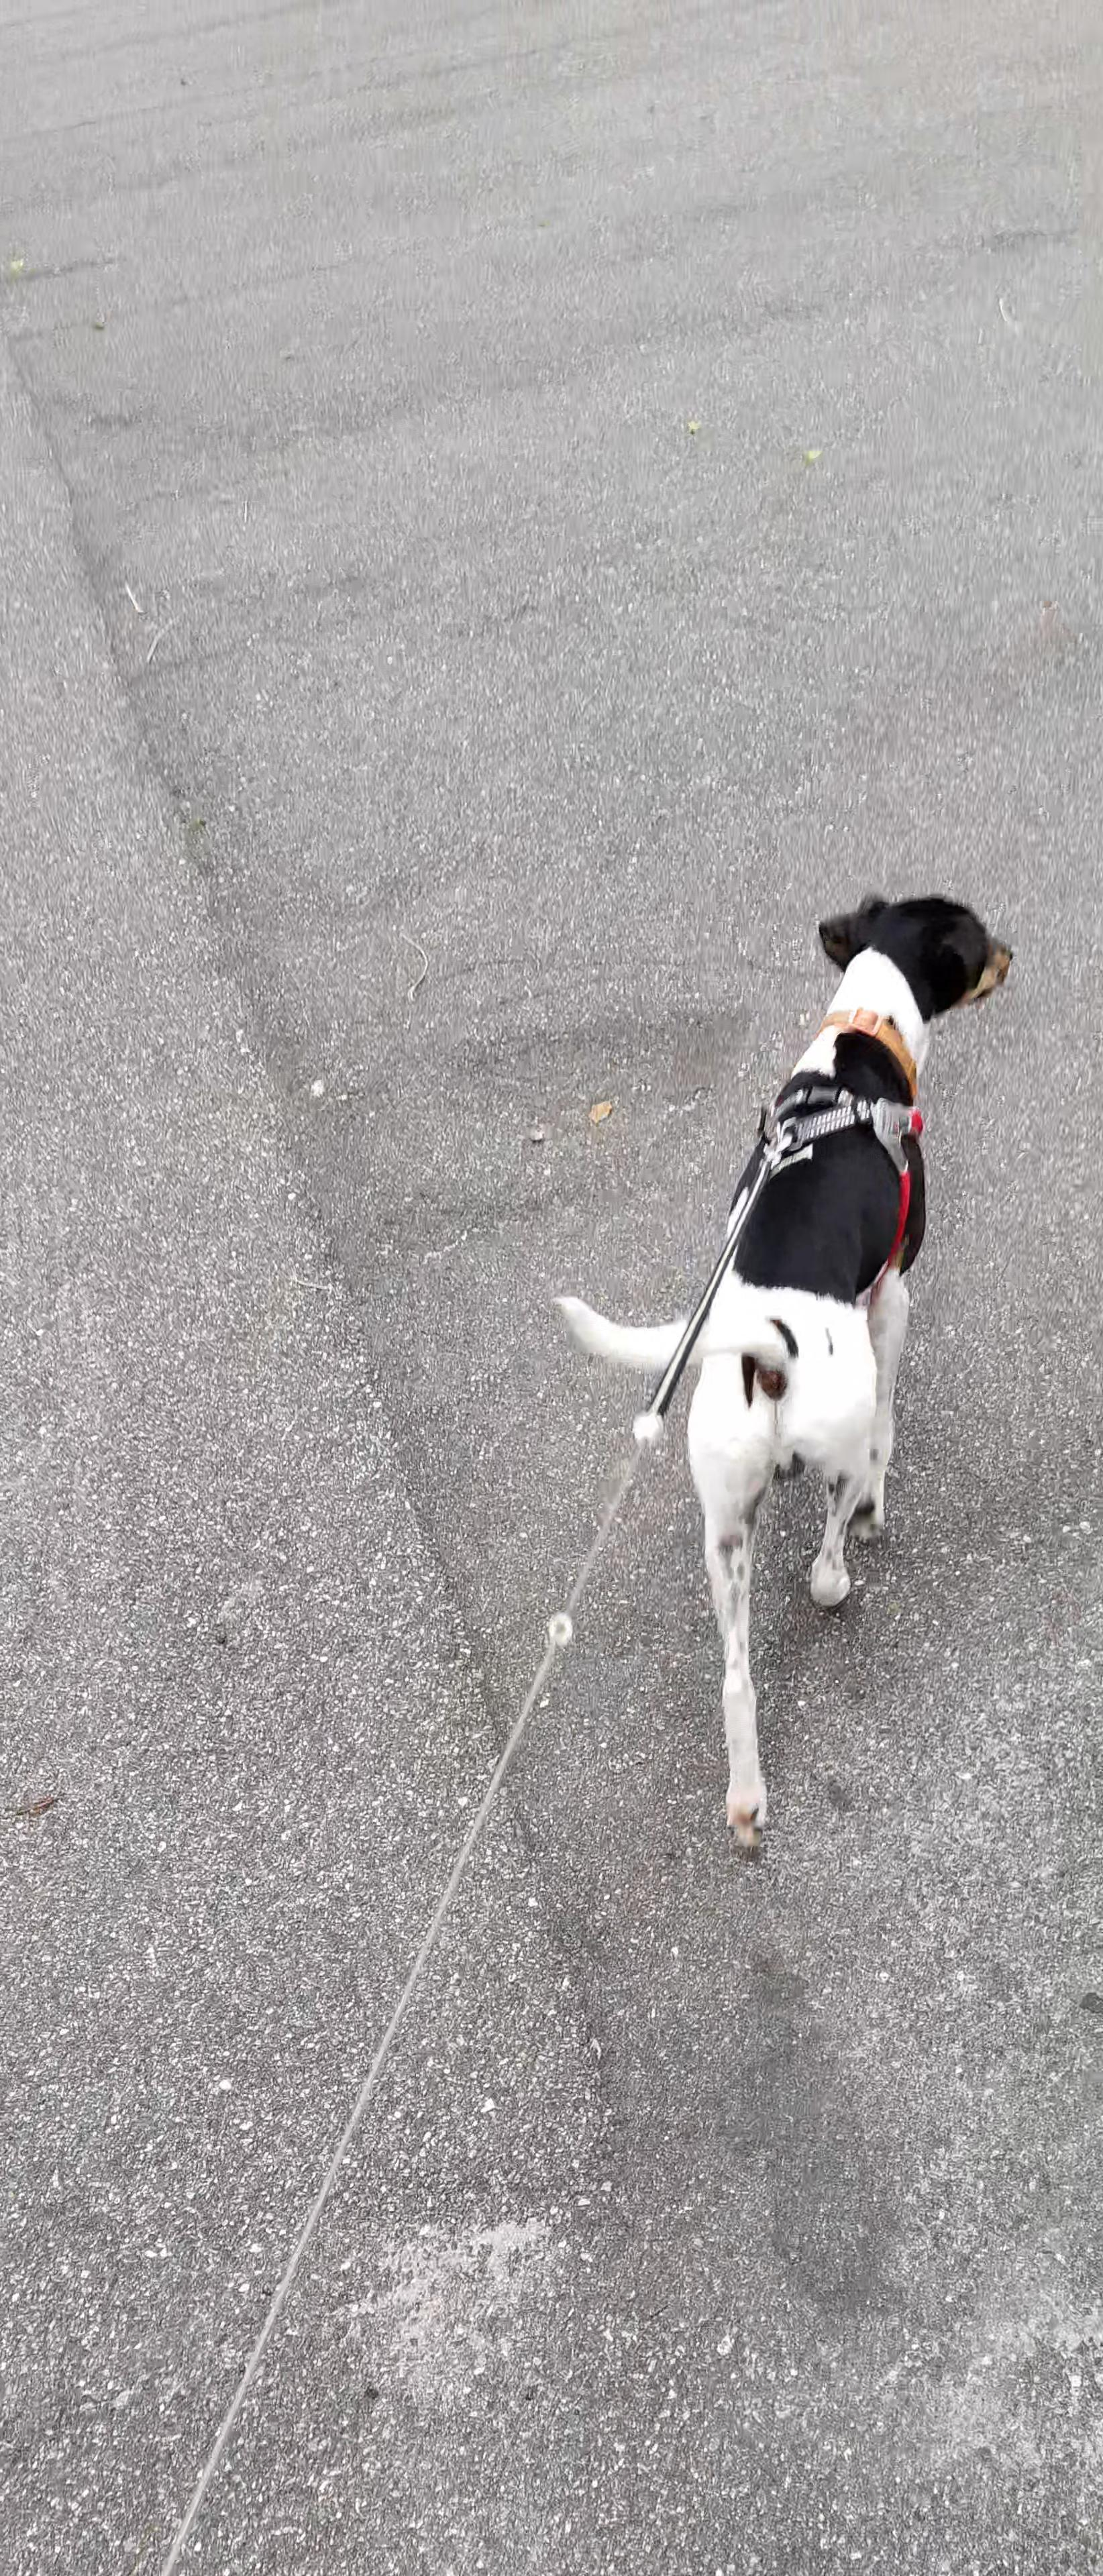Dog: (523, 856, 1044, 1865)
